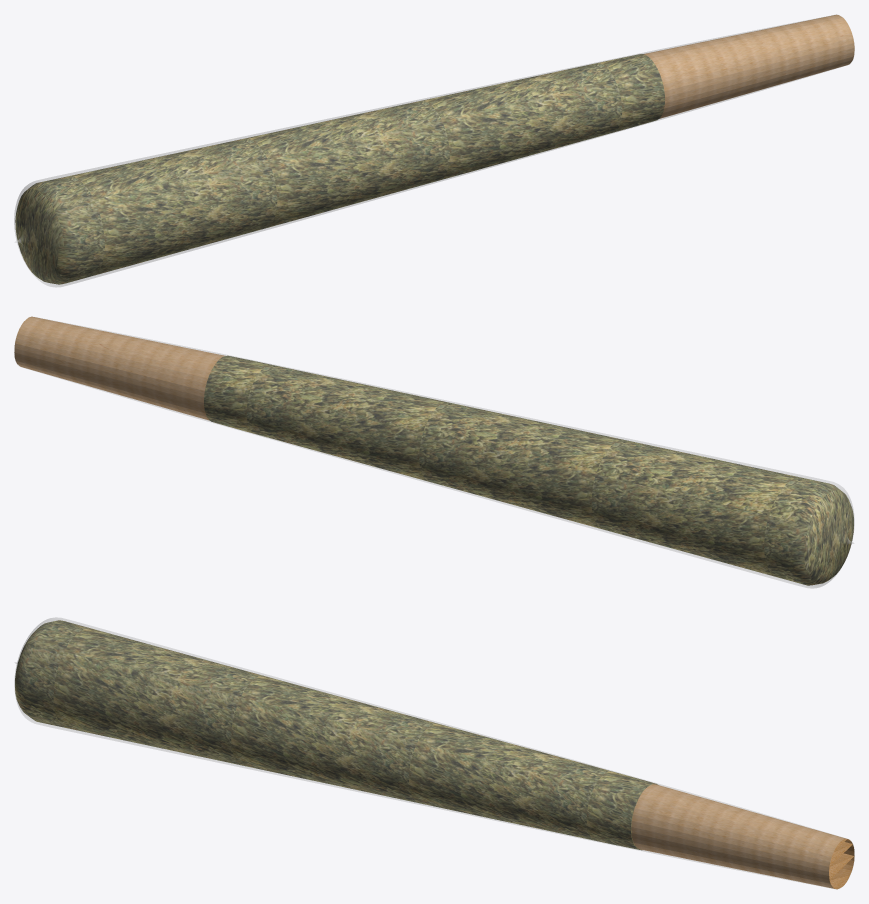
The model's file is joint.glb.
3 views of the same model, one above another, from view 1: azimuth 30°, elevation 25°; view 2: azimuth 150°, elevation 25°; view 3: azimuth 330°, elevation 25° (orthographic).
Visible parts, largest first — view 1: Rolling Paper, Flower, Paper Filter; view 2: Rolling Paper, Flower, Paper Filter; view 3: Rolling Paper, Flower, Paper Filter.
Part boxes in pixels (x1,y1,x2,y2): Rolling Paper: (14,15,854,287); Flower: (15,54,664,284); Paper Filter: (643,14,854,118); Rolling Paper: (14,316,854,588); Flower: (204,355,853,585); Paper Filter: (14,316,225,420); Rolling Paper: (14,617,854,888); Flower: (15,620,657,850); Paper Filter: (631,784,854,889).
Size of the model in its own units: 0.0993 by 0.0114 by 0.0114.
3 materials, 2 textured.
